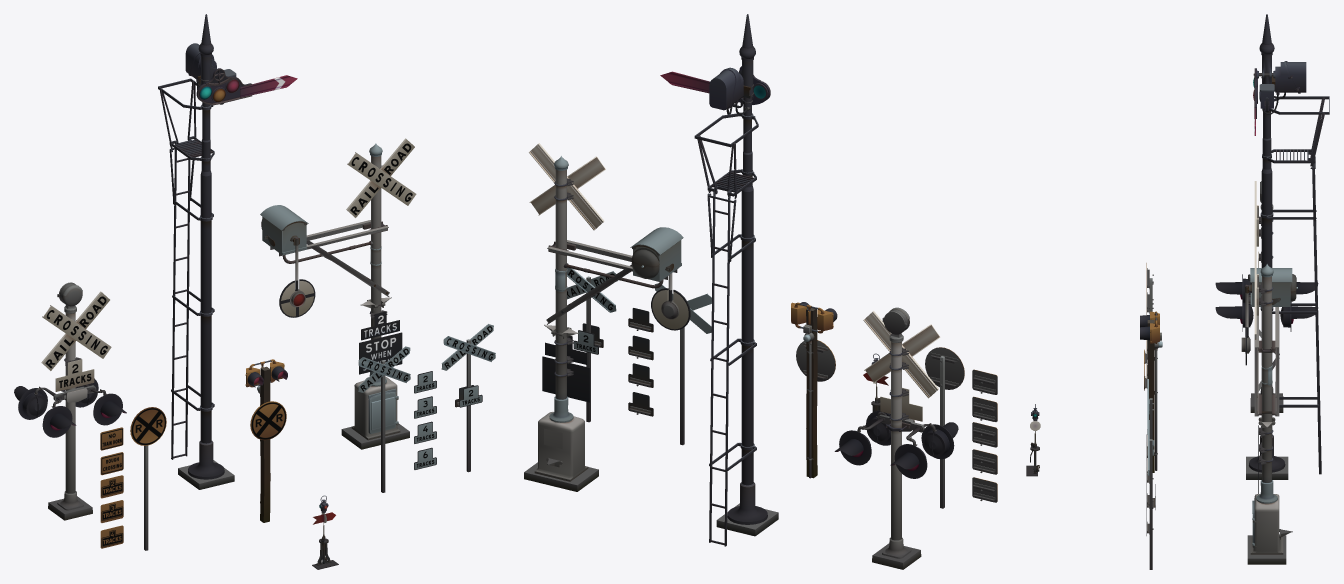
File: railway_signs__asset_pack.glb
3 views of the same model, side by side, from view 1: azimuth 30°, elevation 25°; view 2: azimuth 150°, elevation 25°; view 3: azimuth 270°, elevation 25° (orthographic). The views are drawn at different scales.
Visible parts, largest first — view 1: Wig-wag_Single, Semaphore_Base_Single, Way_Light_Single, Small_Light_Single, S2_Sign_03, Semaphore_Lights_Single, S2_Sign_01, S1_Sign_01, Wig-wag_Decals, Way_Light_Decals, Arrow_Single, Small_Light_Decal (+1 smaller); view 2: Wig-wag_Single, Semaphore_Base_Single, Way_Light_Single, Small_Light_Single, S2_Sign_03, S1_Sign_01, S2_Sign_01, Semaphore_Lights_Single; view 3: Wig-wag_Single, Semaphore_Base_Single, Way_Light_Single, Small_Light_Single, S2_Sign_03, Arrow_Single.
Boxes of the visible parts, box(x1,y1,x2,y2) form: Wig-wag_Single: box(260, 138, 416, 449); Semaphore_Base_Single: box(158, 14, 236, 489); Way_Light_Single: box(14, 282, 126, 520); Small_Light_Single: box(245, 359, 287, 522); S2_Sign_03: box(441, 324, 495, 472); Semaphore_Lights_Single: box(196, 64, 297, 105); S2_Sign_01: box(358, 346, 410, 492); S1_Sign_01: box(130, 407, 166, 550); Wig-wag_Decals: box(350, 143, 412, 370); Way_Light_Decals: box(45, 296, 107, 387); Arrow_Single: box(312, 495, 338, 569); Small_Light_Decal: box(251, 402, 285, 439); Wig-wag_Single: box(524, 143, 690, 491); Semaphore_Base_Single: box(694, 14, 778, 546); Way_Light_Single: box(834, 307, 958, 569); Small_Light_Single: box(791, 302, 837, 478); S2_Sign_03: box(567, 267, 618, 422); S1_Sign_01: box(925, 347, 964, 508); S2_Sign_01: box(654, 283, 711, 445); Semaphore_Lights_Single: box(660, 66, 770, 104); Wig-wag_Single: box(1241, 250, 1297, 564); Semaphore_Base_Single: box(1246, 14, 1329, 479); Way_Light_Single: box(1215, 181, 1318, 412); Small_Light_Single: box(1140, 311, 1162, 472); S2_Sign_03: box(1146, 420, 1155, 569); Arrow_Single: box(1026, 404, 1040, 476).
Bounding box in the file's own units: 11.95 × 13.07 × 7.85.
Materials: 2 (2 with a texture image).
